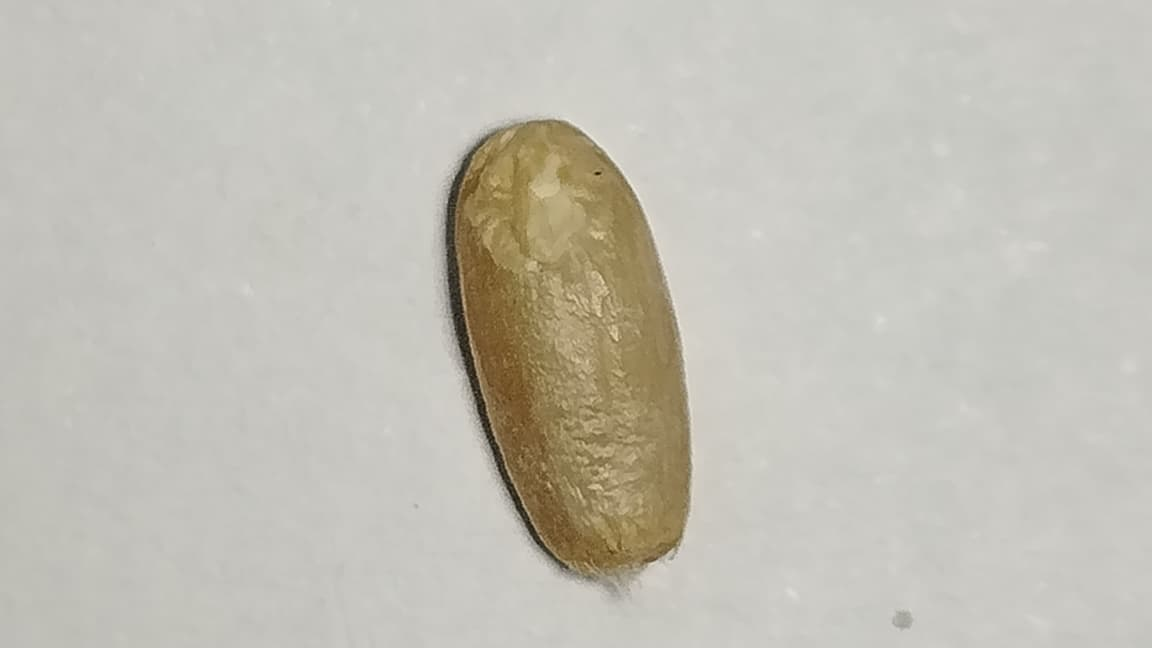healthy: (447, 117, 691, 578)
